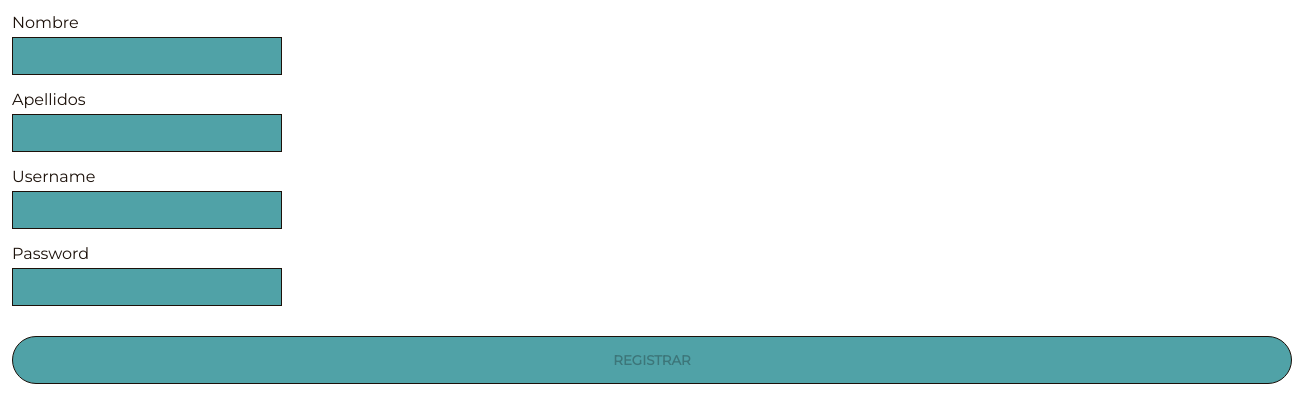
Given a RegisterForm component › When it is rendered, the fields are field, and the user clicks the button › Then the button should be disabled ant the fields empty
In the field labelled "Nombre": (147, 56) [12,37,282,75], type "Ana"
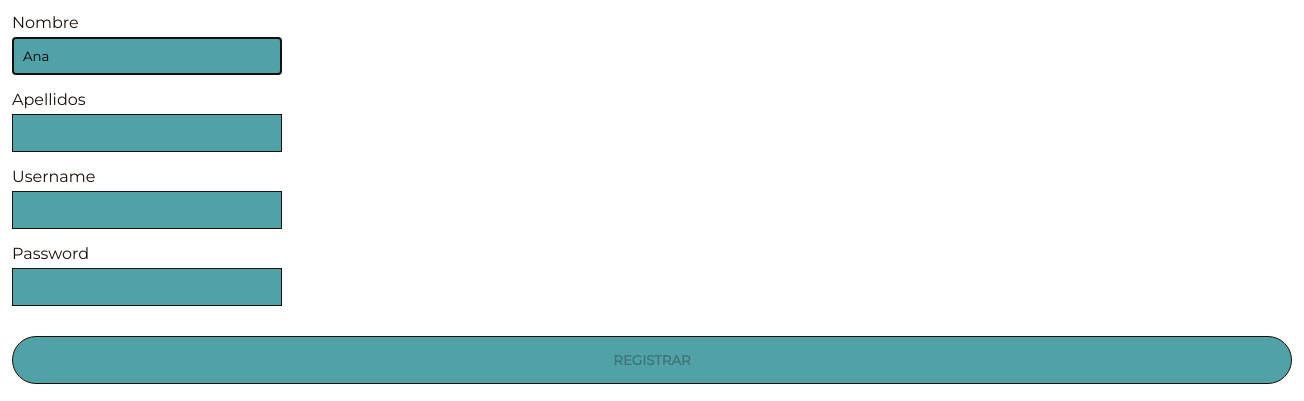
In the field labelled "Apellidos": (147, 133) [12,114,282,152], type "Banana"
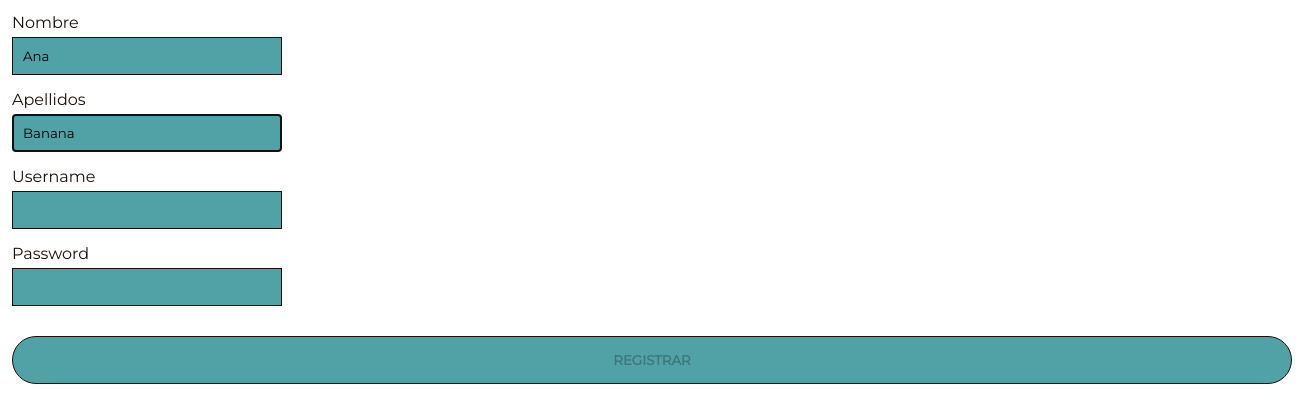
In the field labelled "Username": (147, 210) [12,191,282,229], type "Andana"
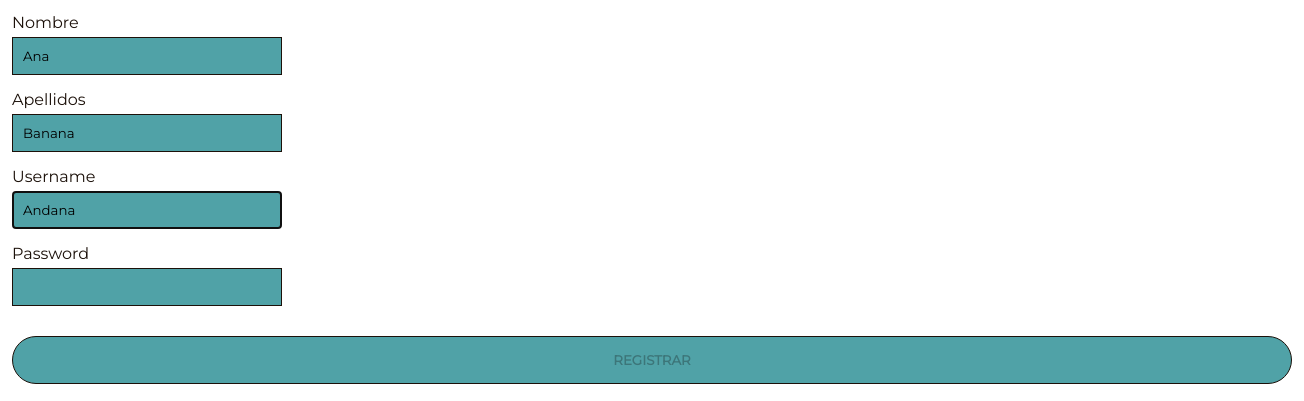
In the password field labelled "Password": (147, 287) [12,268,282,306], type "Palangana"
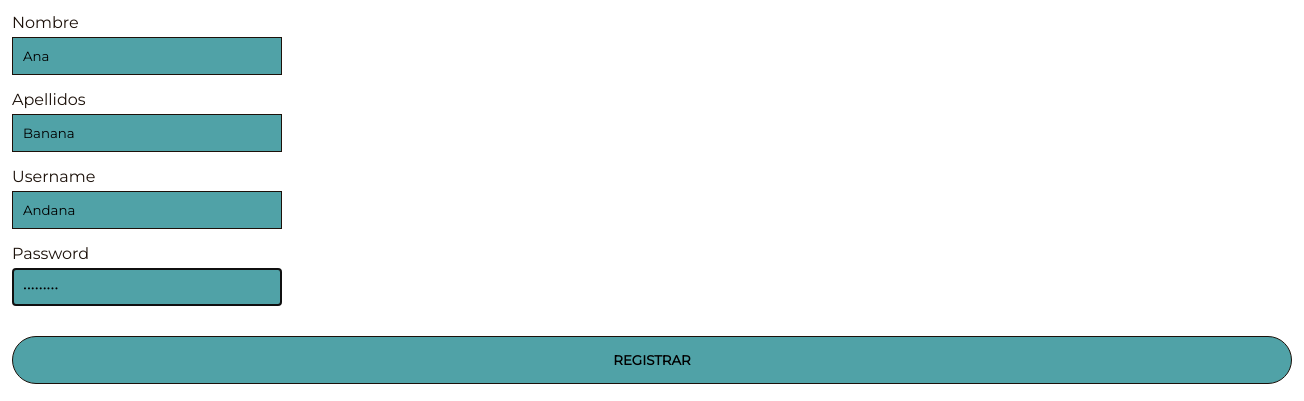
Click the button "Registrar": (652, 360) [12,336,1292,384]
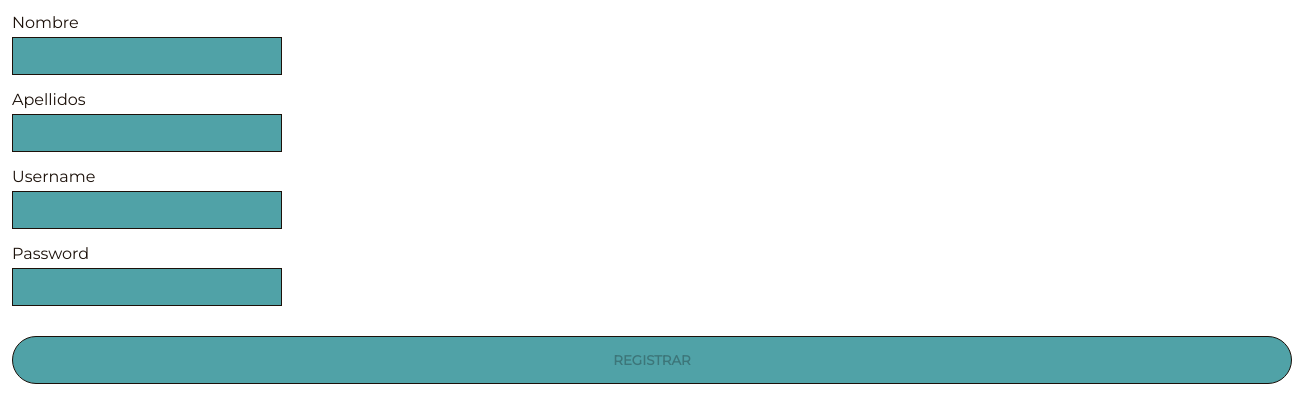
Check: the button "Registrar" is disabled, box [12,336,1292,384]
Check: the field labelled "Nombre" is empty, box [12,37,282,75]
Check: the field labelled "Apellidos" is empty, box [12,114,282,152]
